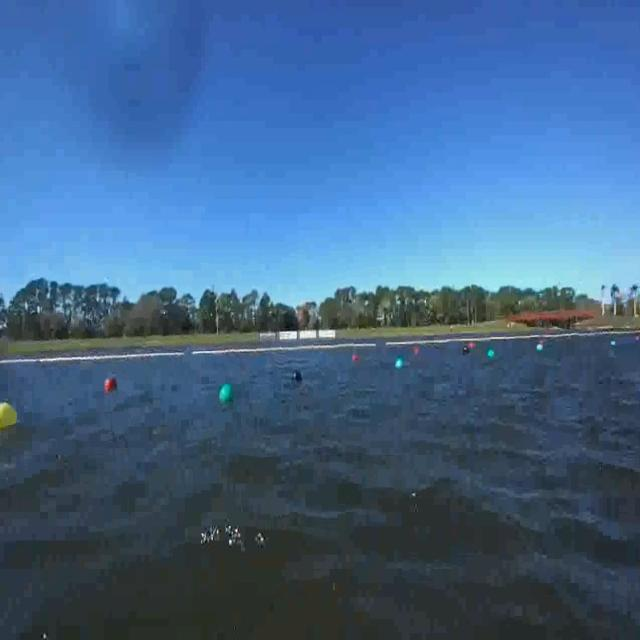green-buoy: (220, 381, 233, 401)
red-buoy: (102, 374, 118, 395)
yellow-buoy: (0, 403, 18, 433)
